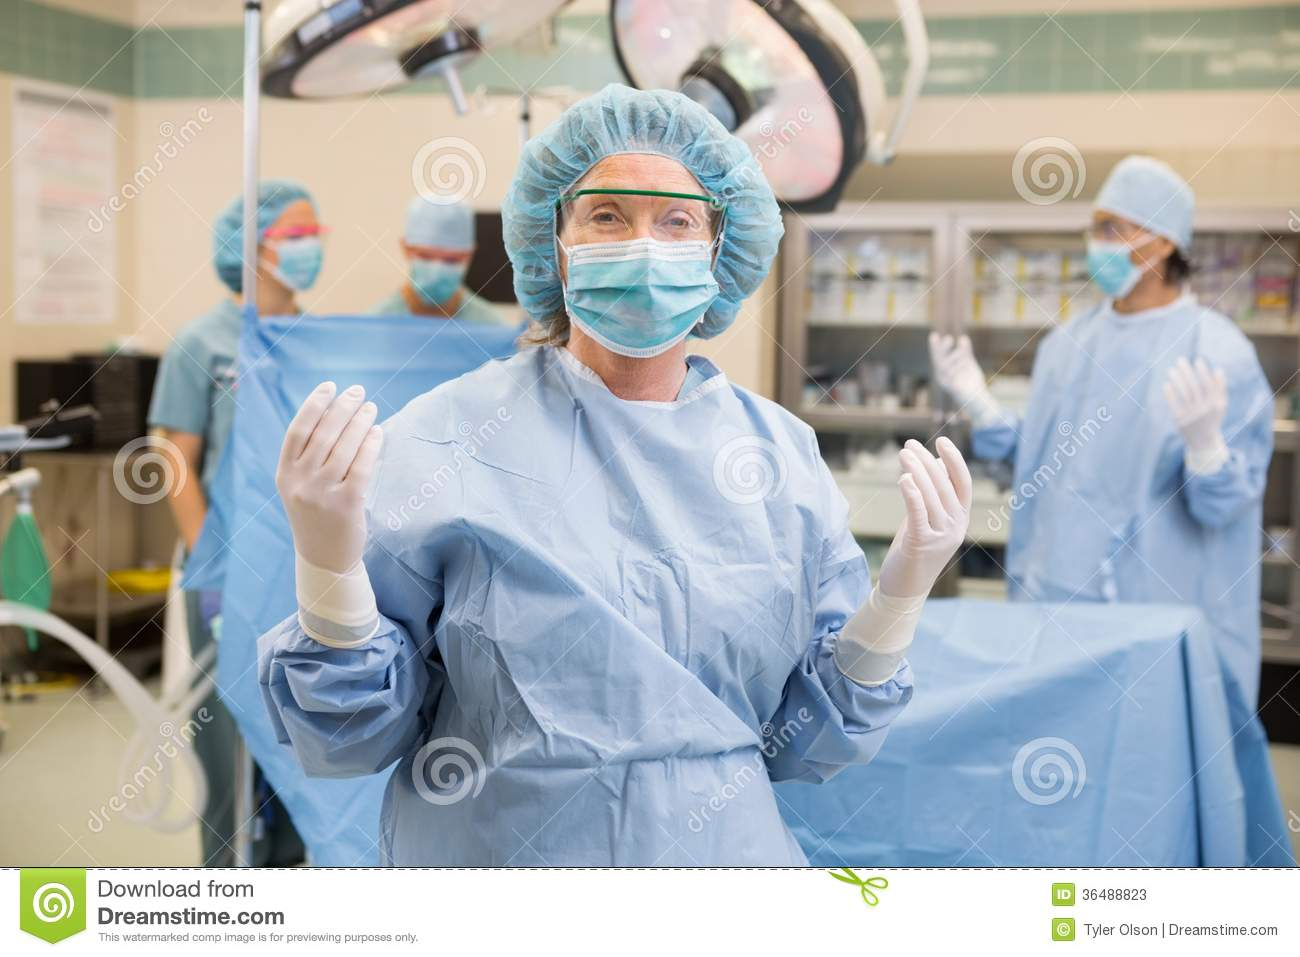mask: (564, 238, 725, 349)
